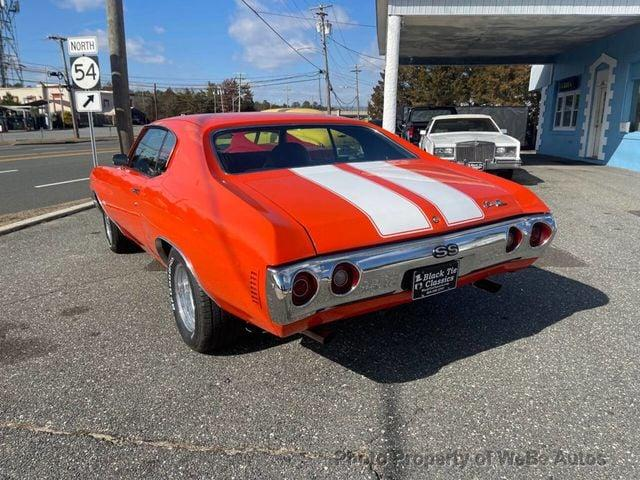chevelle-1972: (90, 112, 556, 351)
